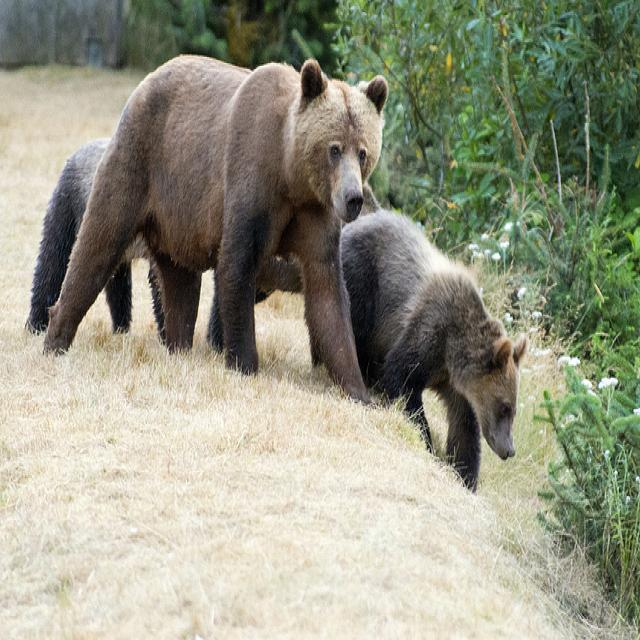Bear: (41, 39, 384, 437), (326, 203, 529, 497)
